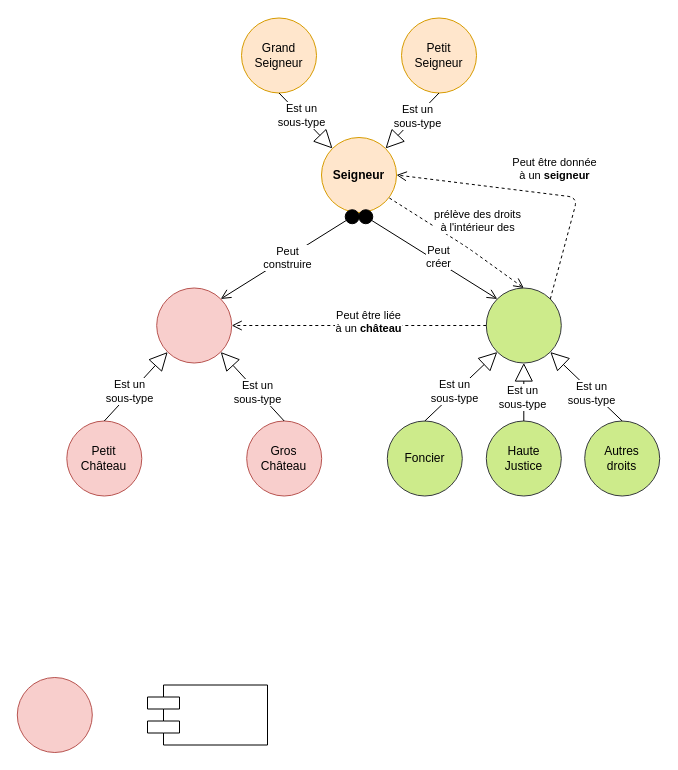
The diagram is 678 pixels wide and 770 high, and some of its shapes have lost their labels. Here are the shapes that lost their labels. From the top down, the box of each, then its label:
(156, 287, 232, 363): Château
(485, 287, 561, 363): Zone de Prélèvement
(16, 676, 92, 752): Foyer Paysan
(146, 684, 268, 745): Satisfaction
